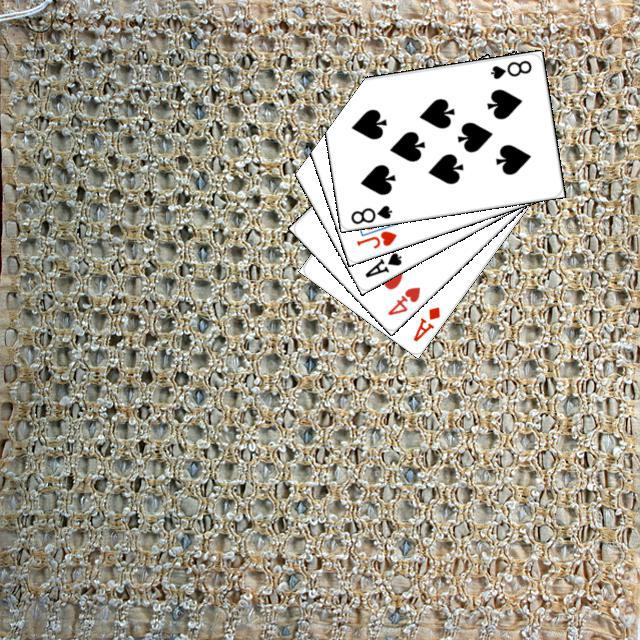4h: (382, 282, 422, 317)
8s: (485, 55, 533, 81), (346, 200, 394, 225)
Ad: (408, 302, 442, 344)
As: (360, 247, 403, 279)
Jh: (351, 226, 398, 250)
